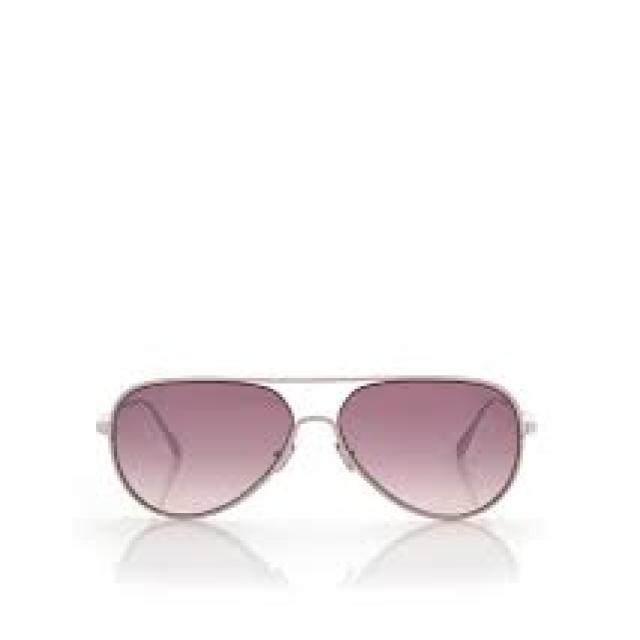sunglasses: (72, 359, 550, 554)
